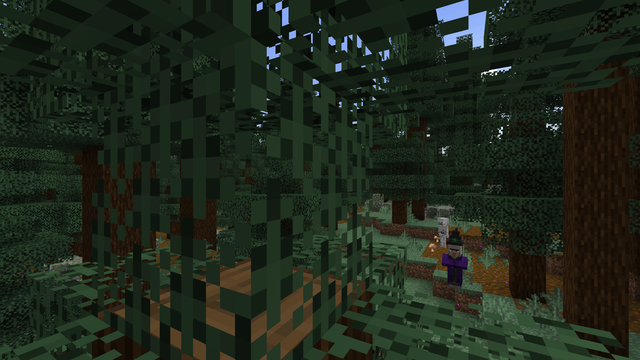sorcieres: (446, 239, 462, 290)
squelettes: (437, 217, 447, 248)
